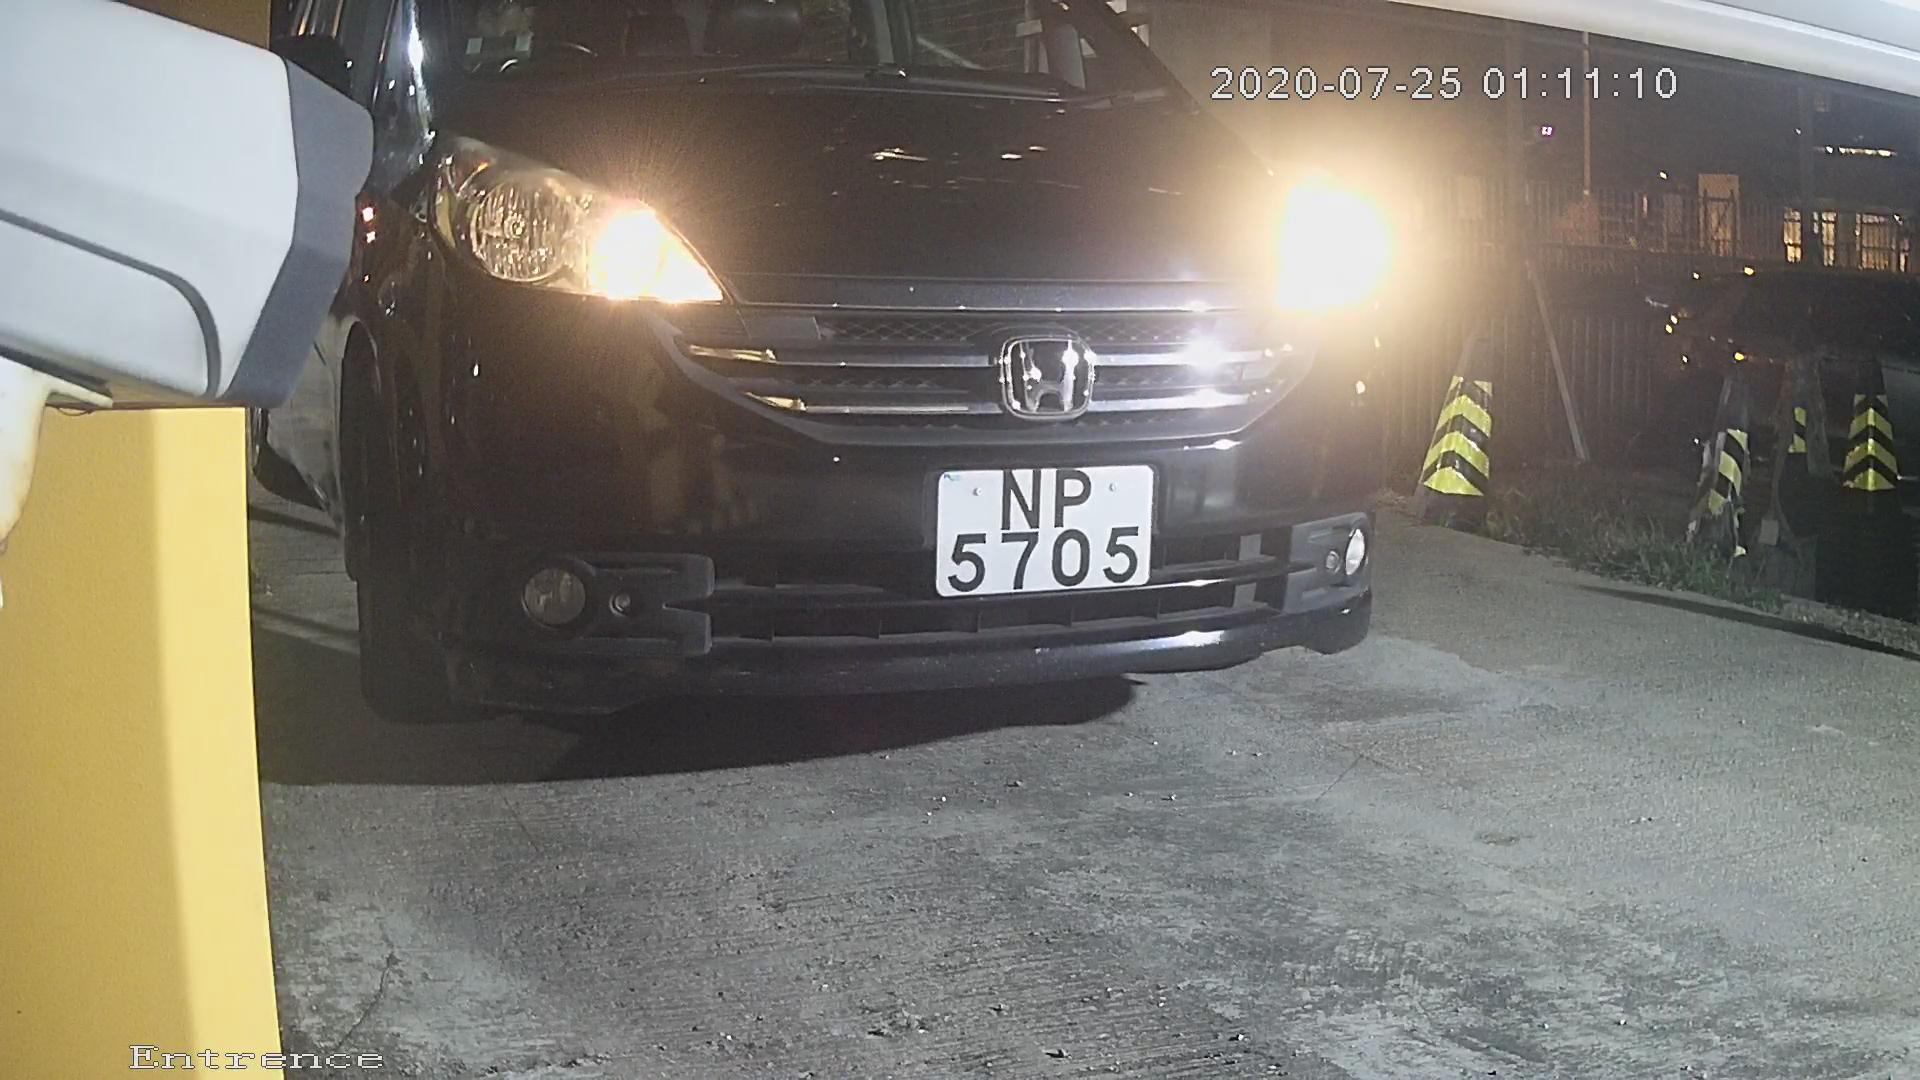Car: (155, 10, 1526, 811)
License Plate: (900, 434, 1183, 622)
